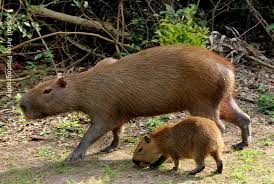capivara: (20, 44, 252, 162), (133, 116, 225, 177)
